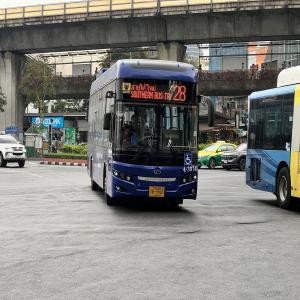Bus Line Number: (172, 84, 187, 102)
Bus Side Number: (181, 164, 198, 174)
Destination Sign: (128, 79, 172, 102)
TSB-Bus: (86, 59, 199, 208)
